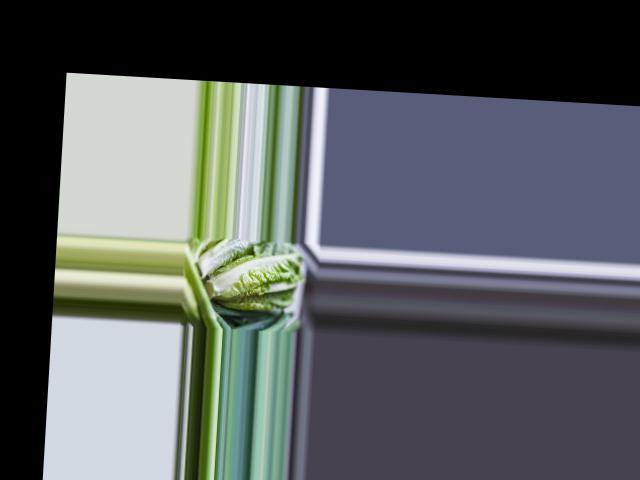lettuce: (203, 247, 304, 315)
